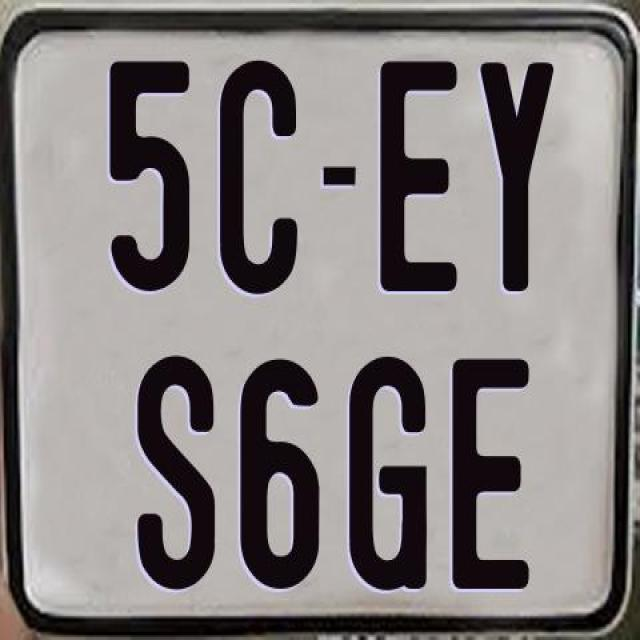5: (106, 61, 195, 296)
6: (238, 357, 326, 596)
C: (218, 56, 302, 290)
E: (450, 355, 530, 586), (378, 59, 456, 294)
G: (348, 352, 430, 589)
S: (133, 354, 219, 596)
Y: (481, 59, 558, 290)
